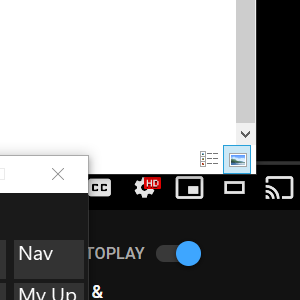close: (42, 161, 74, 187)
